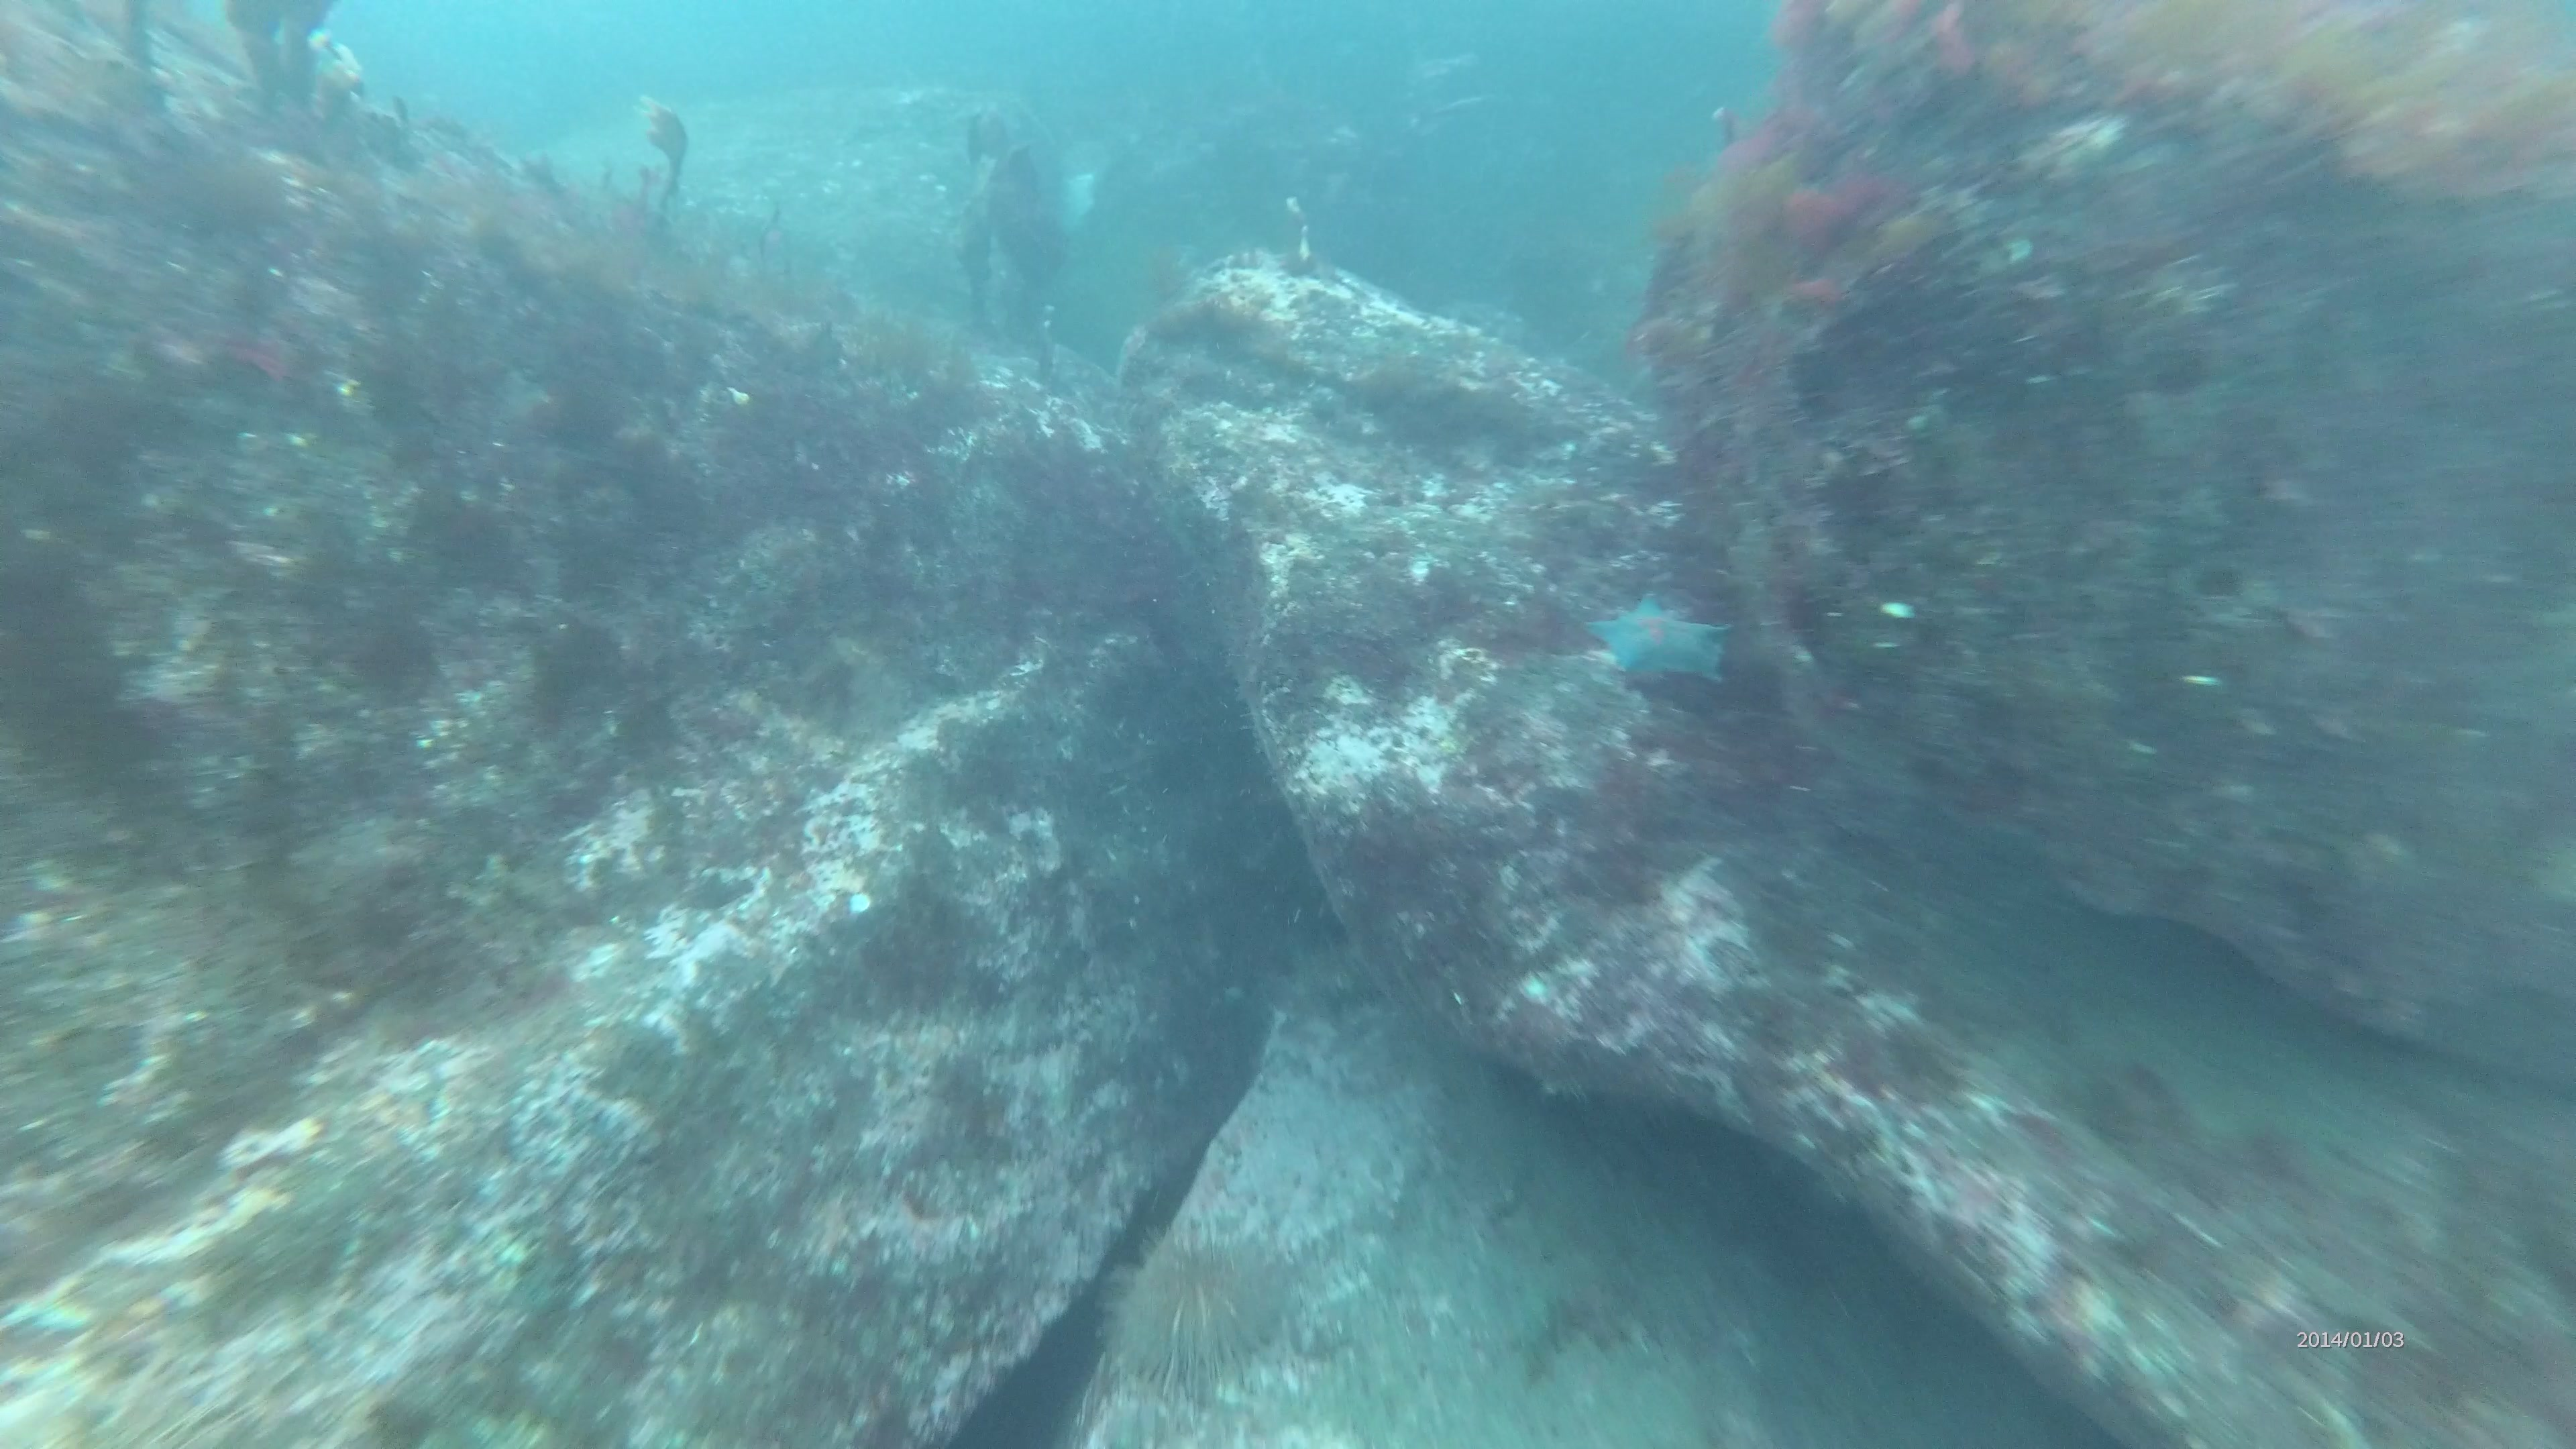echinus: (1106, 1210, 1286, 1415)
starfish: (1578, 577, 1744, 694)
